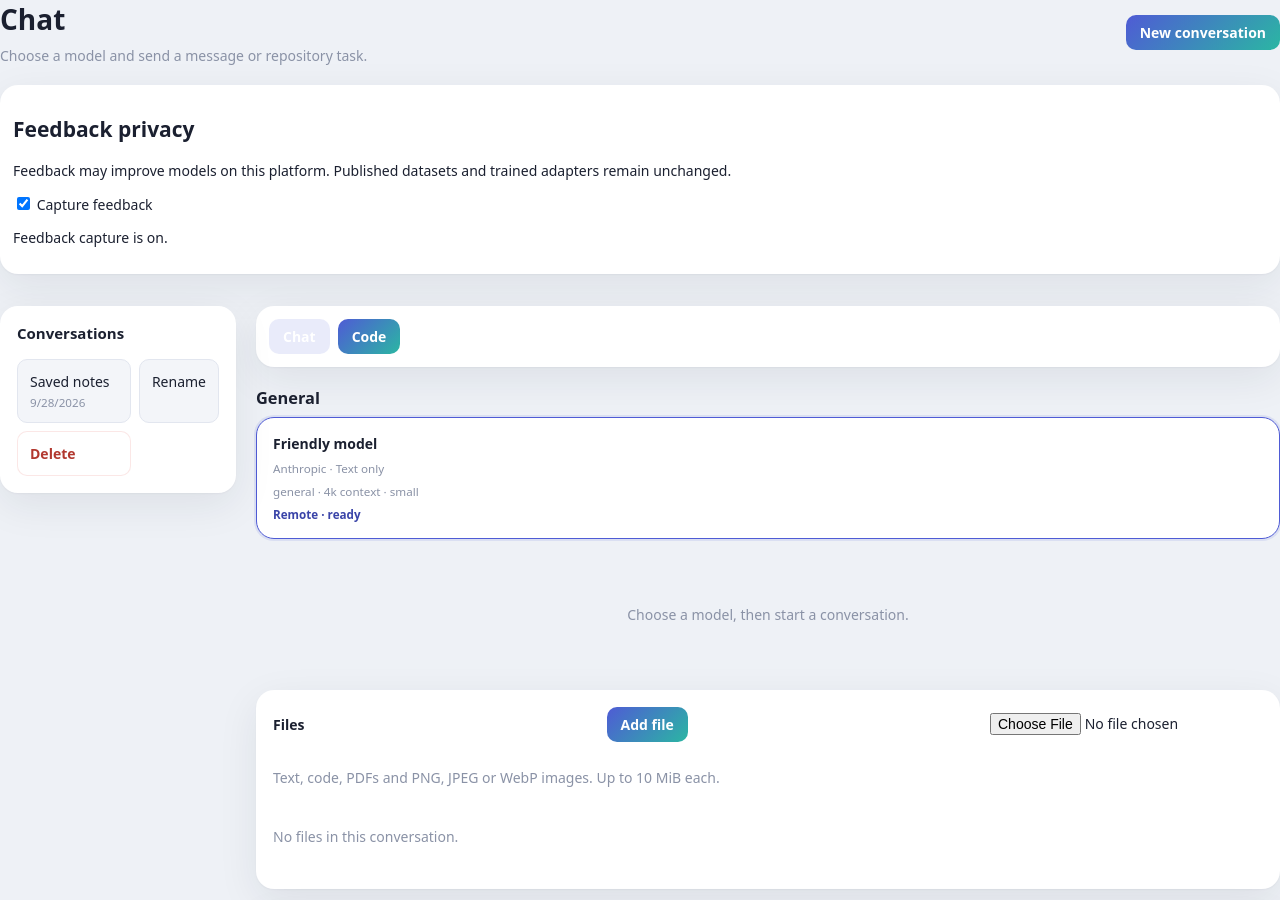
Test case: reopens saved partial output with model attribution and older messages
Click the button "Saved notes 9/28/2026" at coordinates (74, 391), box top-left (17, 359), bottom-right (131, 423)
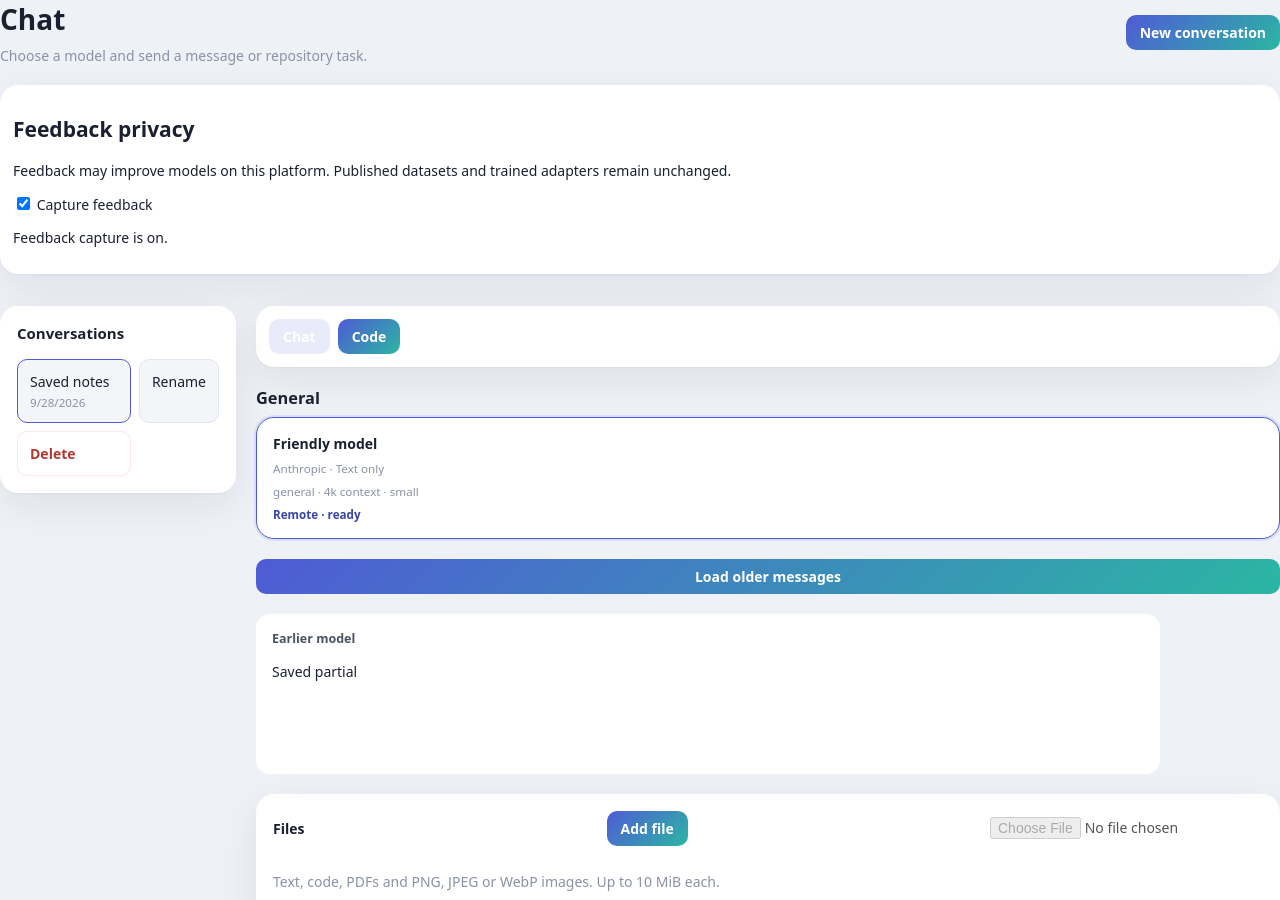
Check: the text "Saved partial" is shown, box top-left (272, 662), bottom-right (357, 681)
Check: the text "Saved partial" shows "Earlier model", box top-left (272, 630), bottom-right (355, 647)
Click the button "Load older messages" at coordinates (768, 576), box top-left (256, 559), bottom-right (1279, 594)
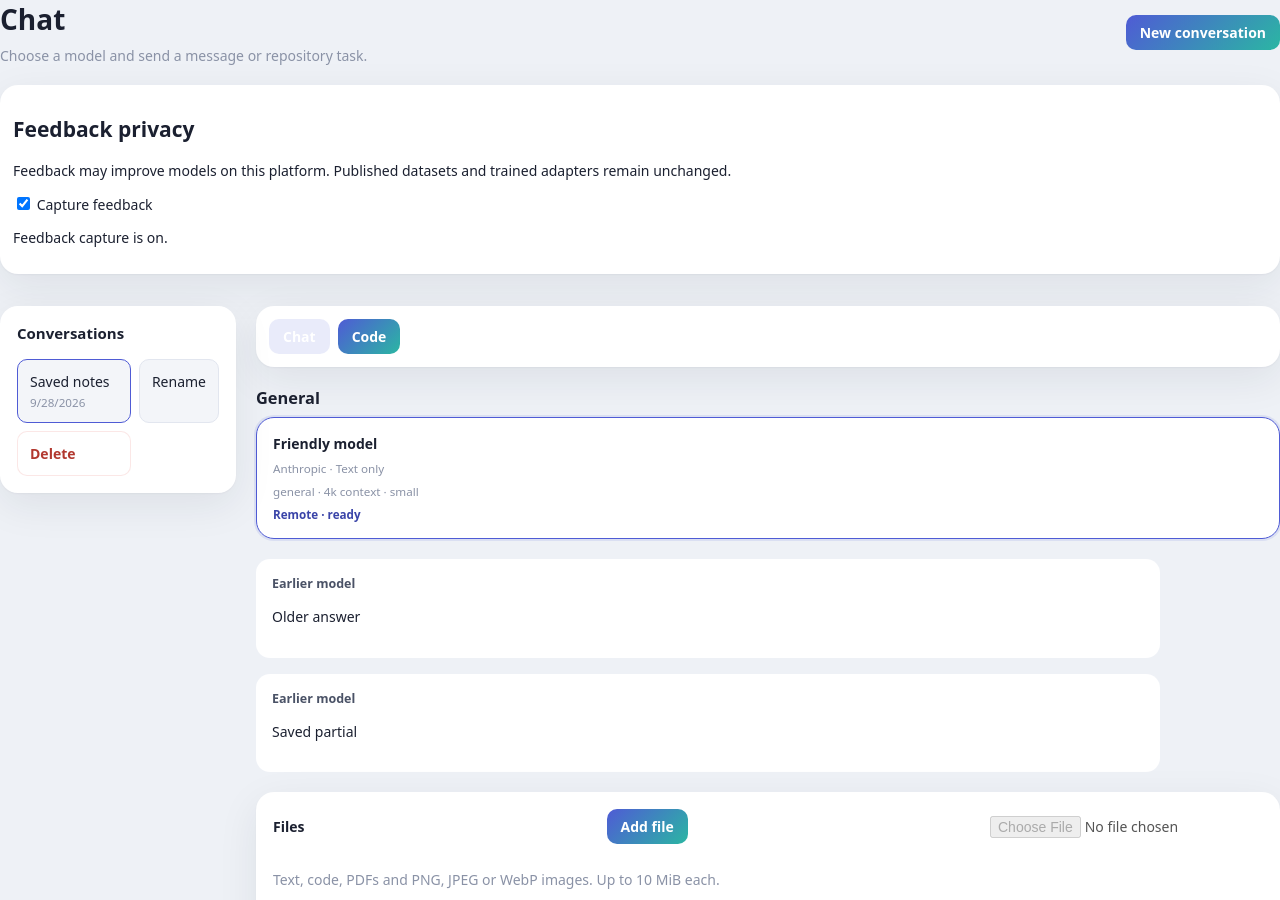
Check: the text "Older answer" is shown, box top-left (272, 607), bottom-right (360, 626)
